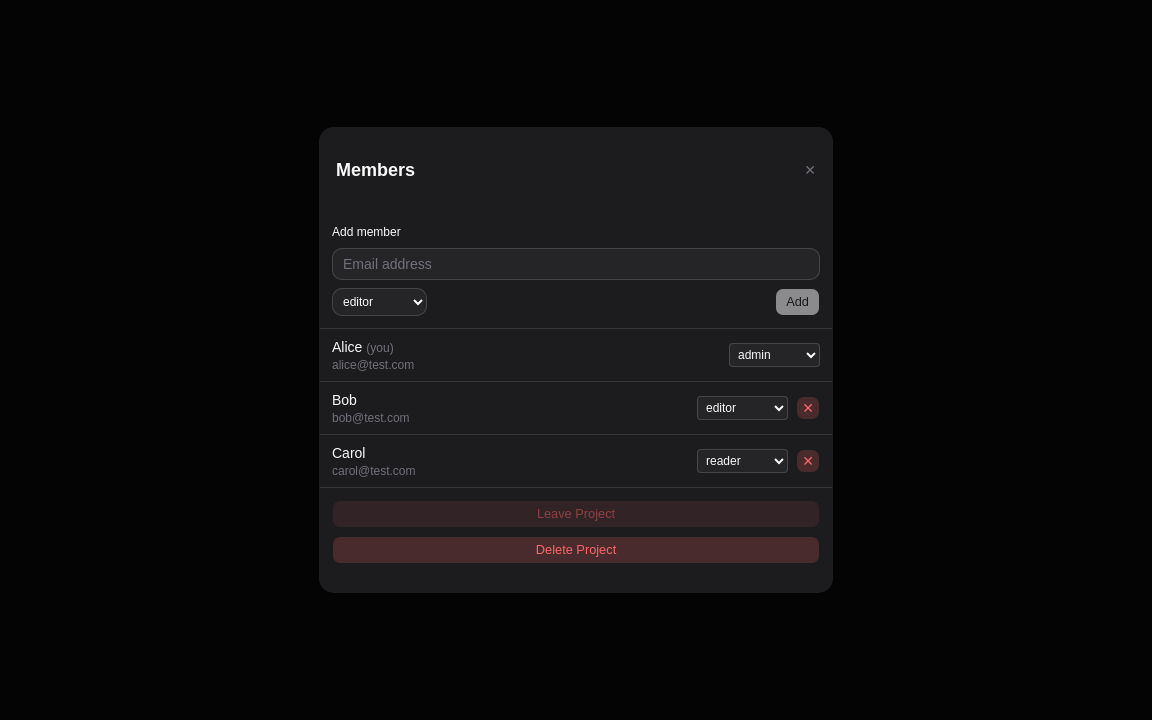
Test case: MembersPanel › remove: reverts on error
Expected: the text "Bob" is shown, [332,392,357,408]
What coordinates should you click on to do the following:
click the button named "Remove Bob"
I would click on:
 (808, 408)
Its box is [796,396,820,420].
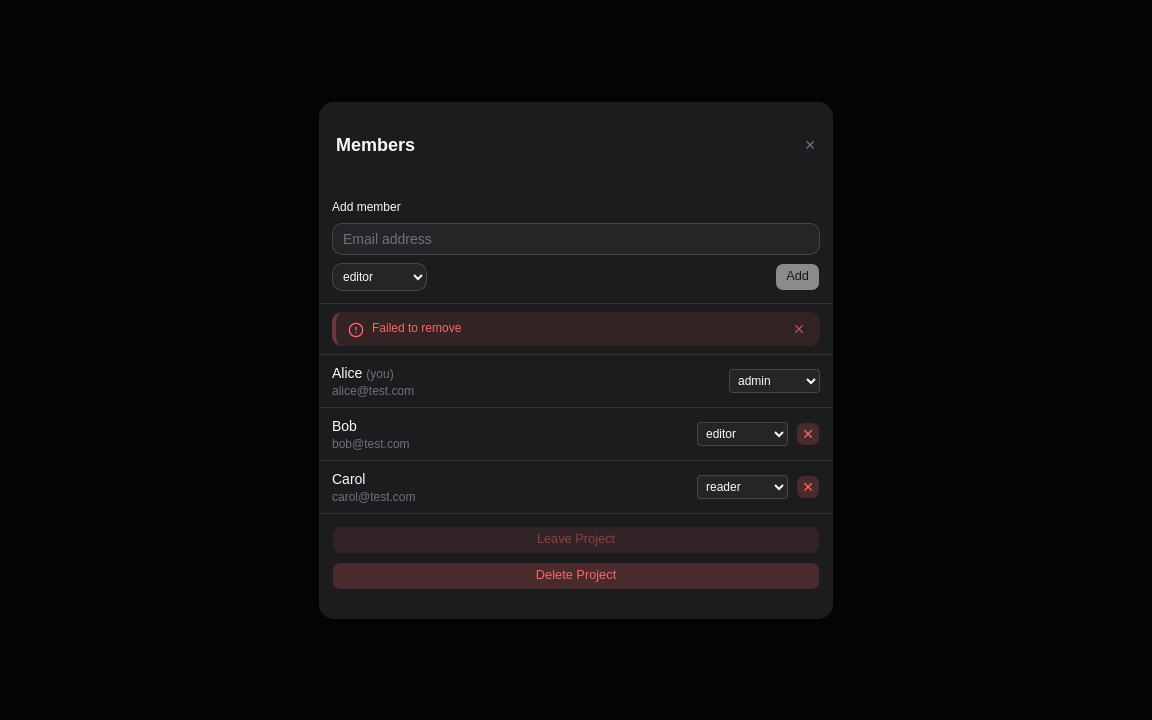
Expected: the text "Bob" is shown, [332,418,357,434]
Result: the text "Failed to remove" is shown at [372,320,461,334]
